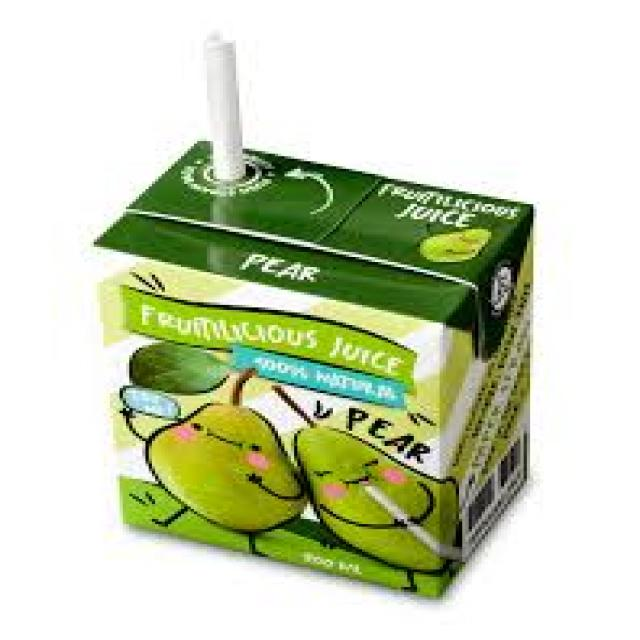non_white_jug: (57, 126, 553, 595)
